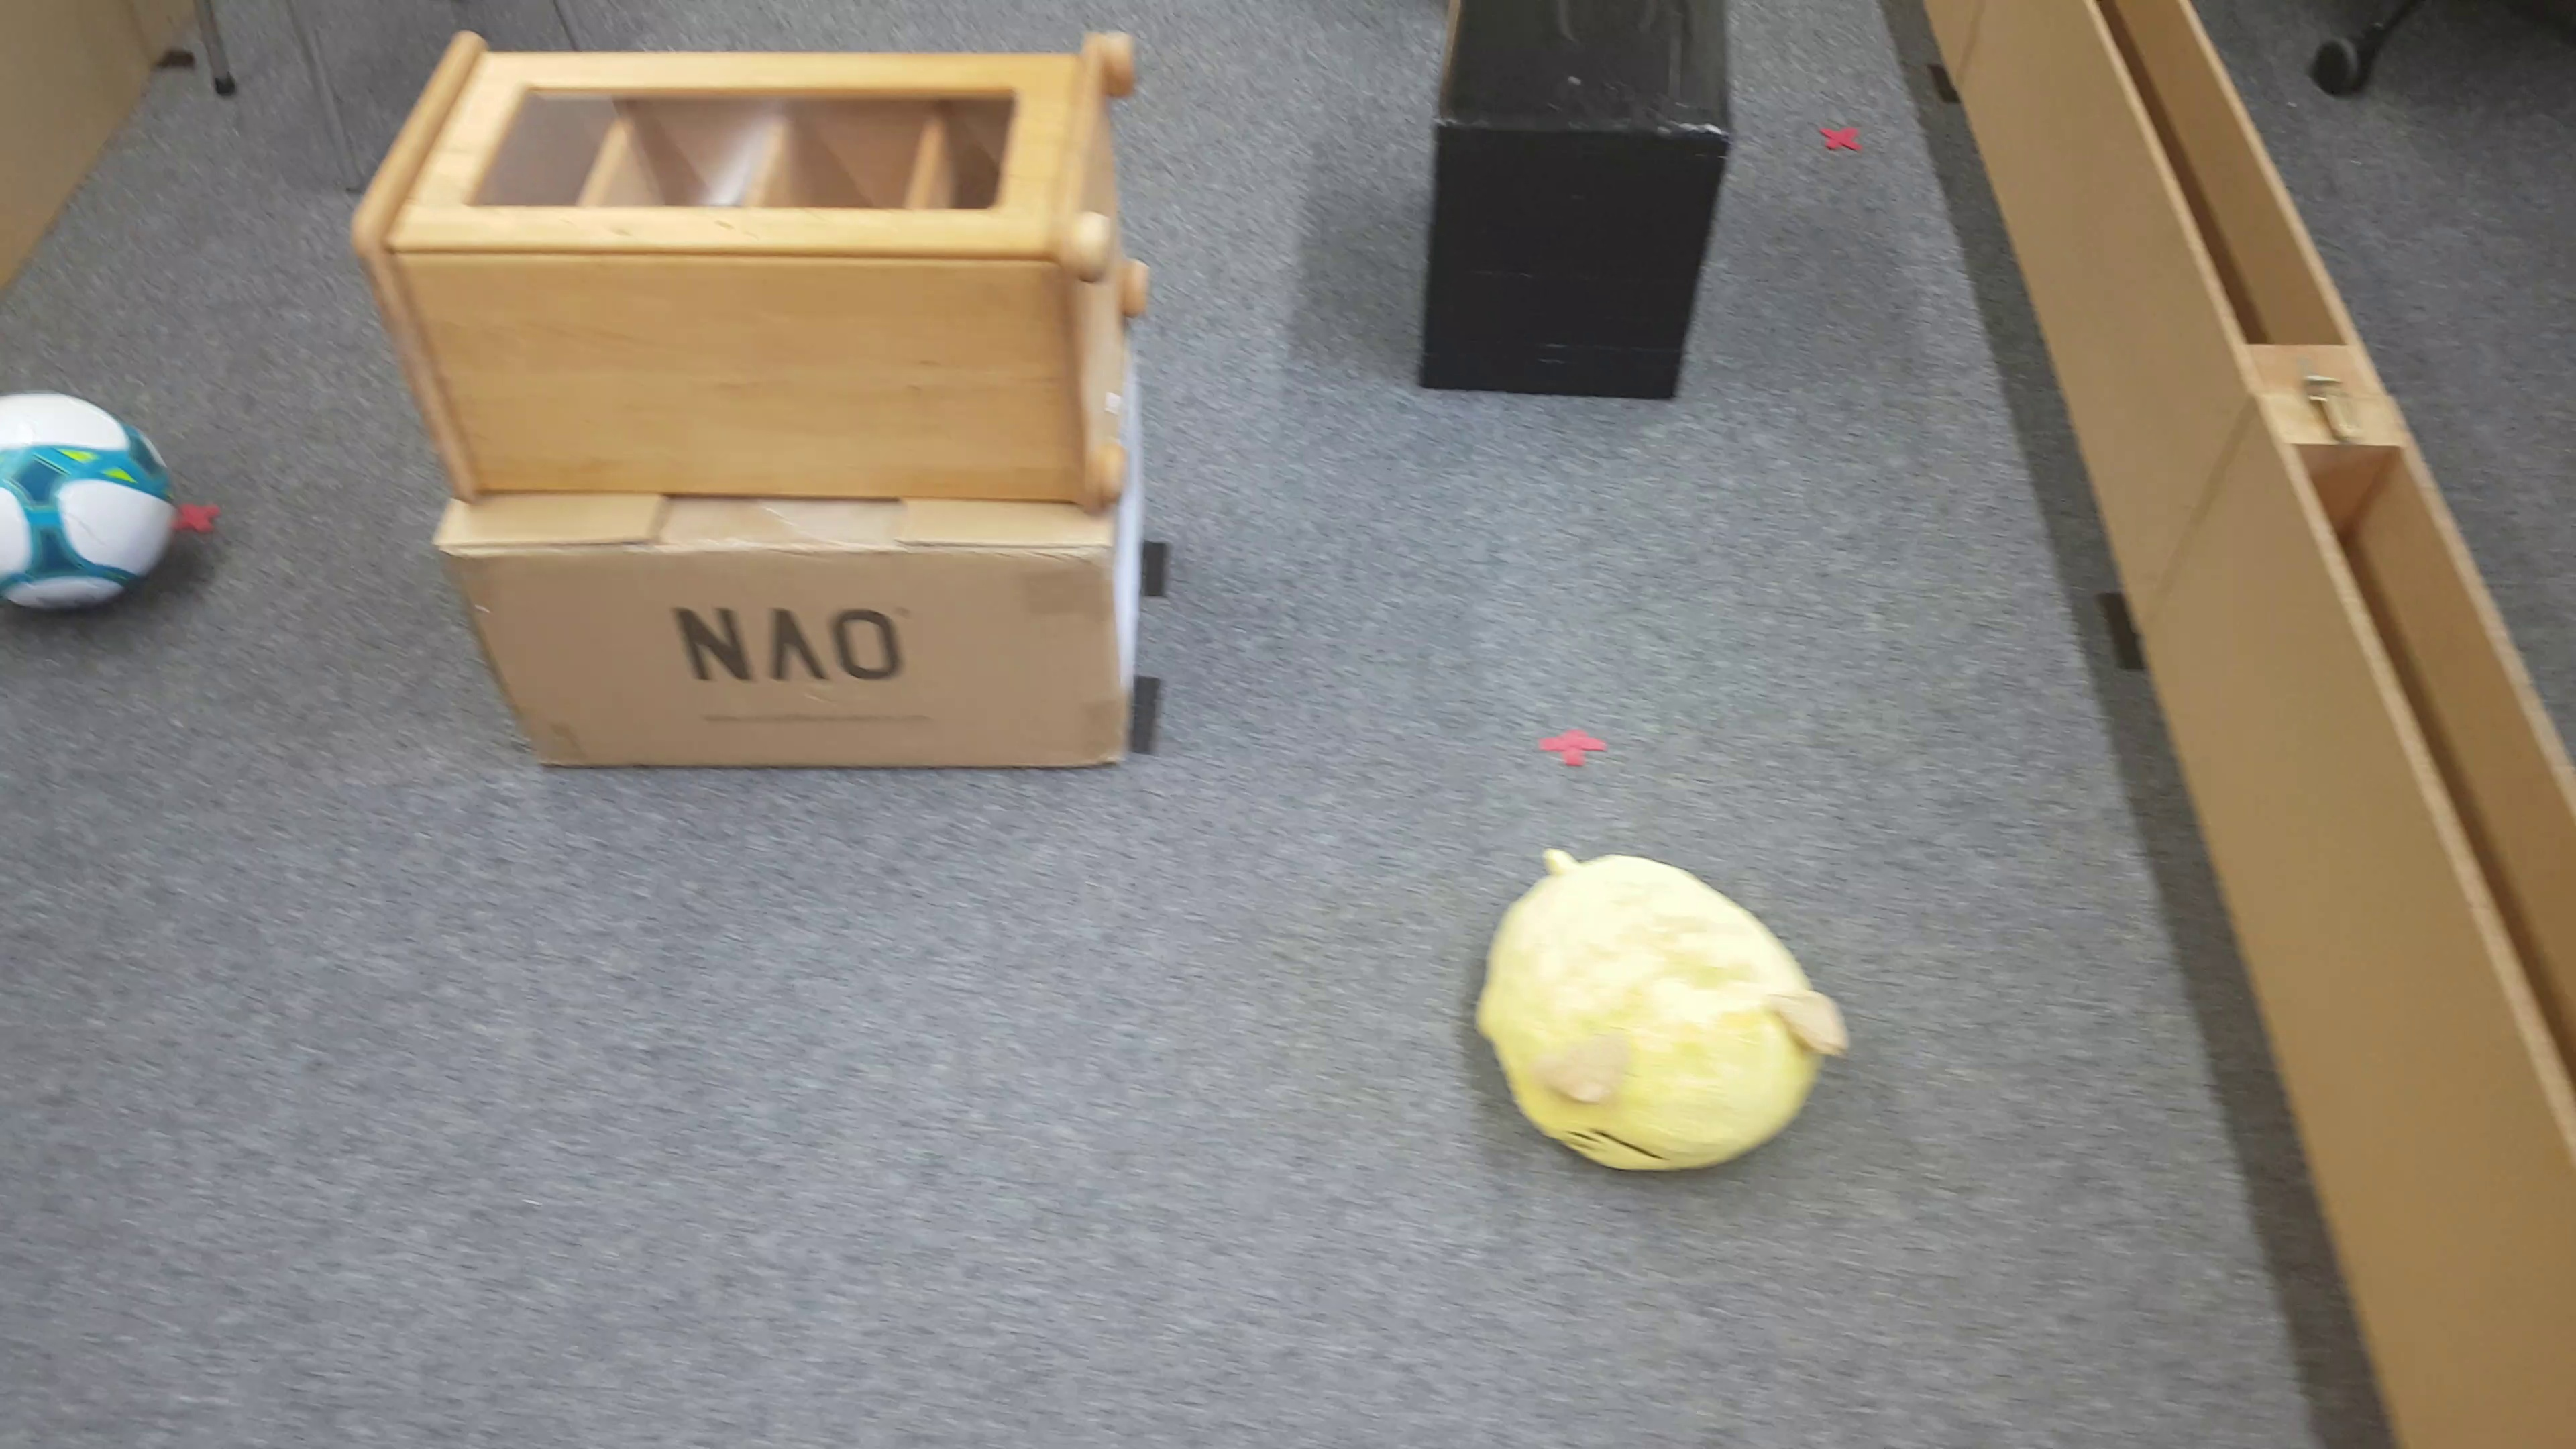grasp: (1472, 847, 1851, 1184)
kick: (7, 384, 173, 633)
push: (1419, 2, 1743, 409)
